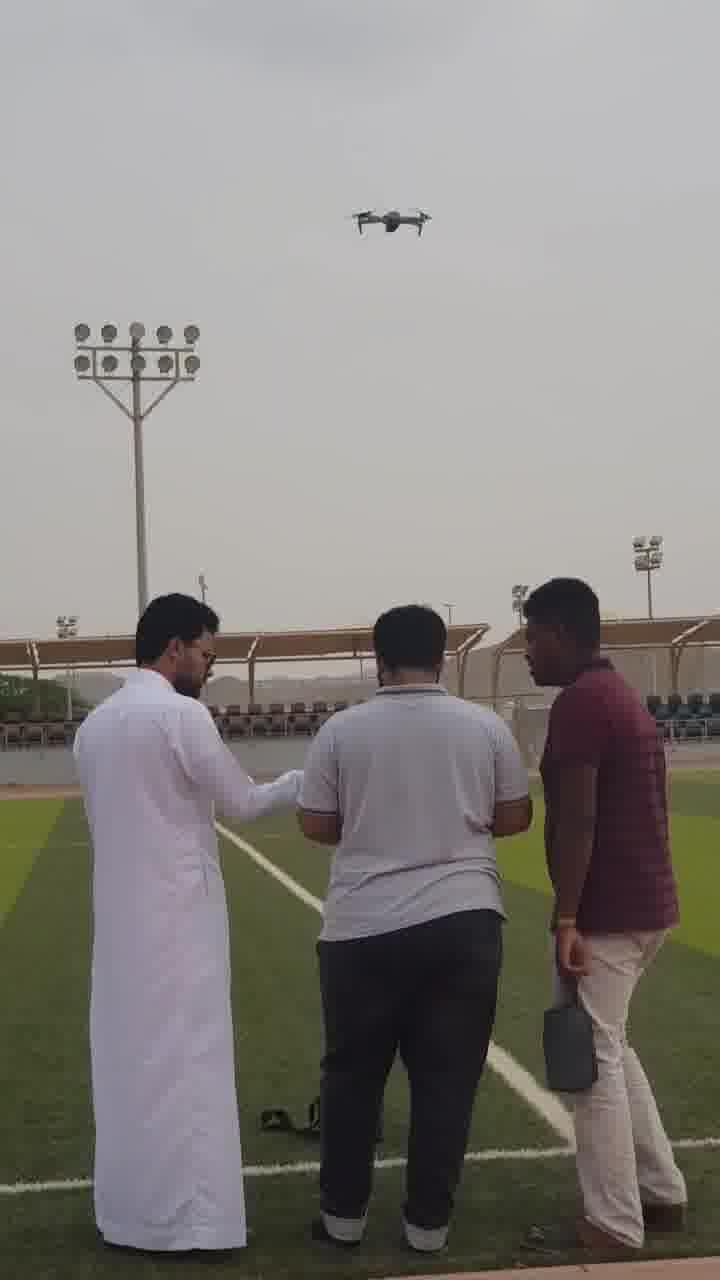drone: (344, 196, 431, 238)
